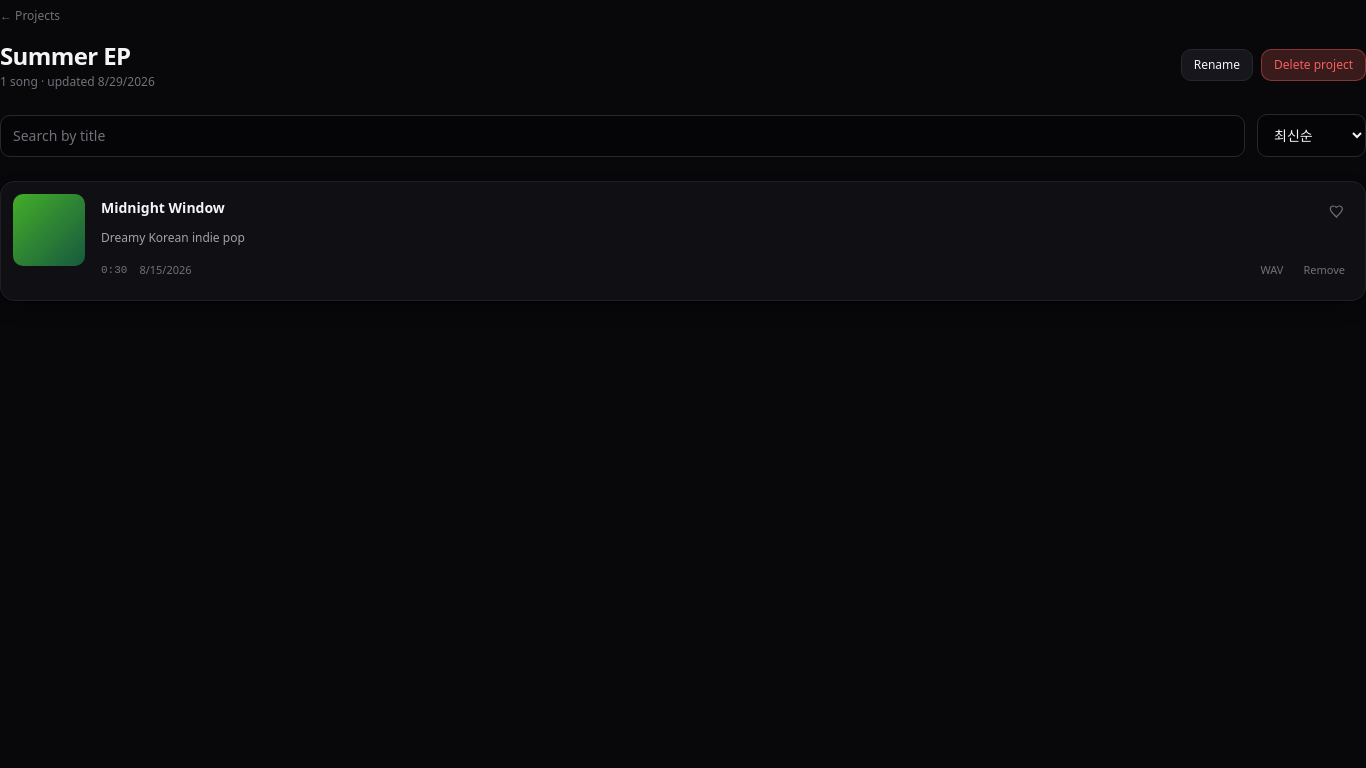
Test: project detail › says the songs survive before deleting a project
Expected: the heading "Summer EP" is shown, [0, 39, 131, 72]
Click the button "Delete project" at (1314,65), box [1261, 49, 1365, 81]
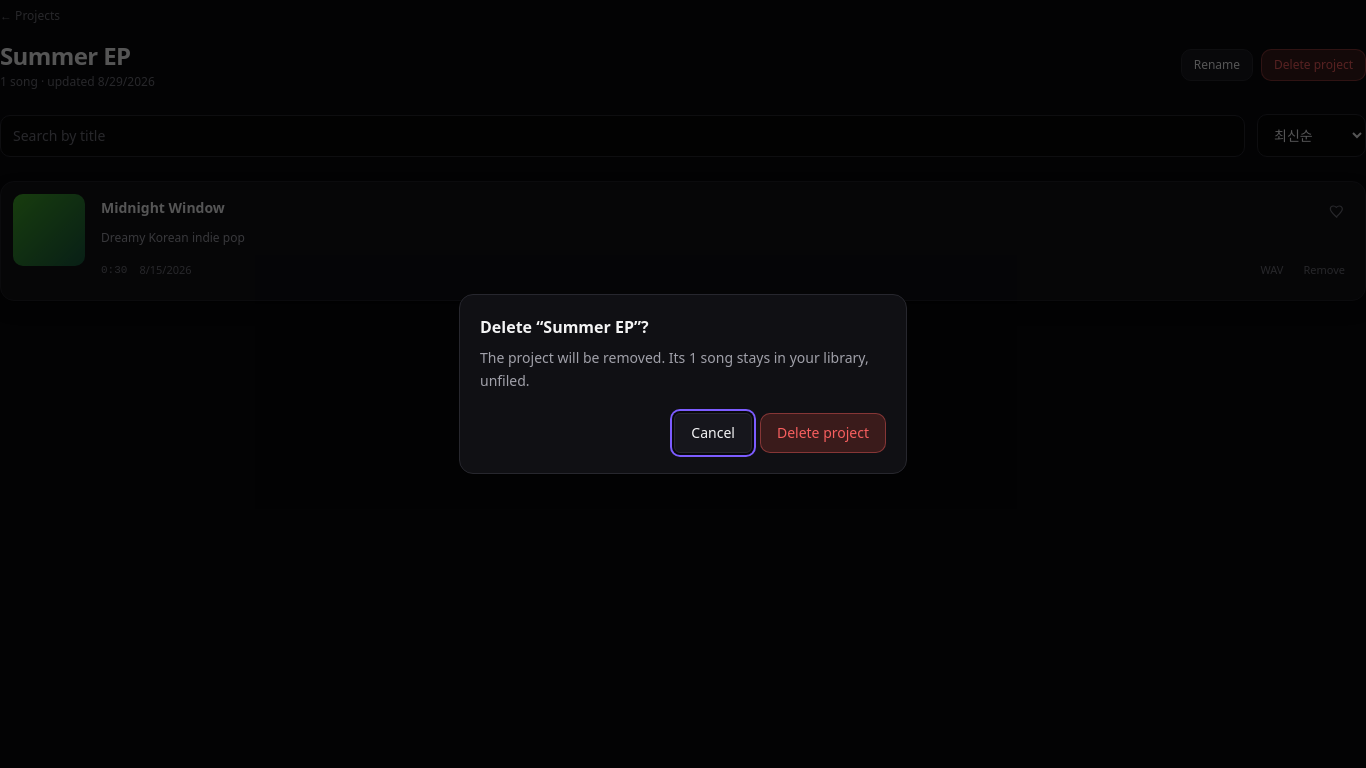
Now the dialog shows "song stays in your library, unfiled", box [480, 348, 869, 390]
